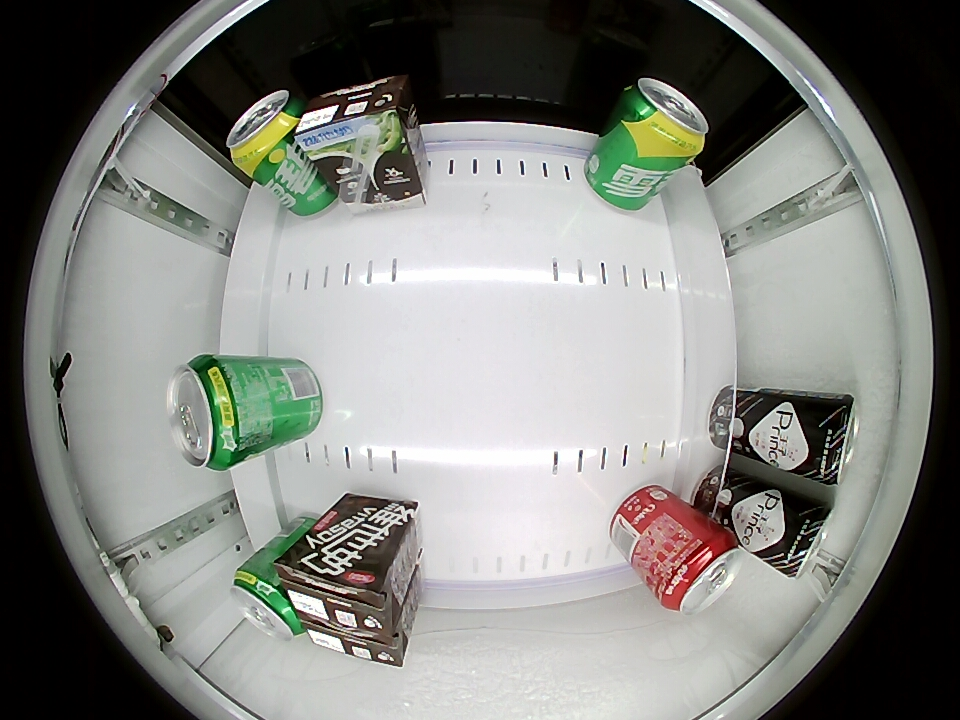kele: (656, 531, 741, 615)
qingdaowangzi-1: (802, 395, 860, 485), (774, 501, 833, 578)
weitanai2: (277, 545, 400, 637), (295, 76, 413, 159), (303, 621, 410, 667)
xuebi2: (167, 354, 254, 471), (618, 77, 709, 161), (226, 89, 303, 170), (231, 562, 304, 641)
